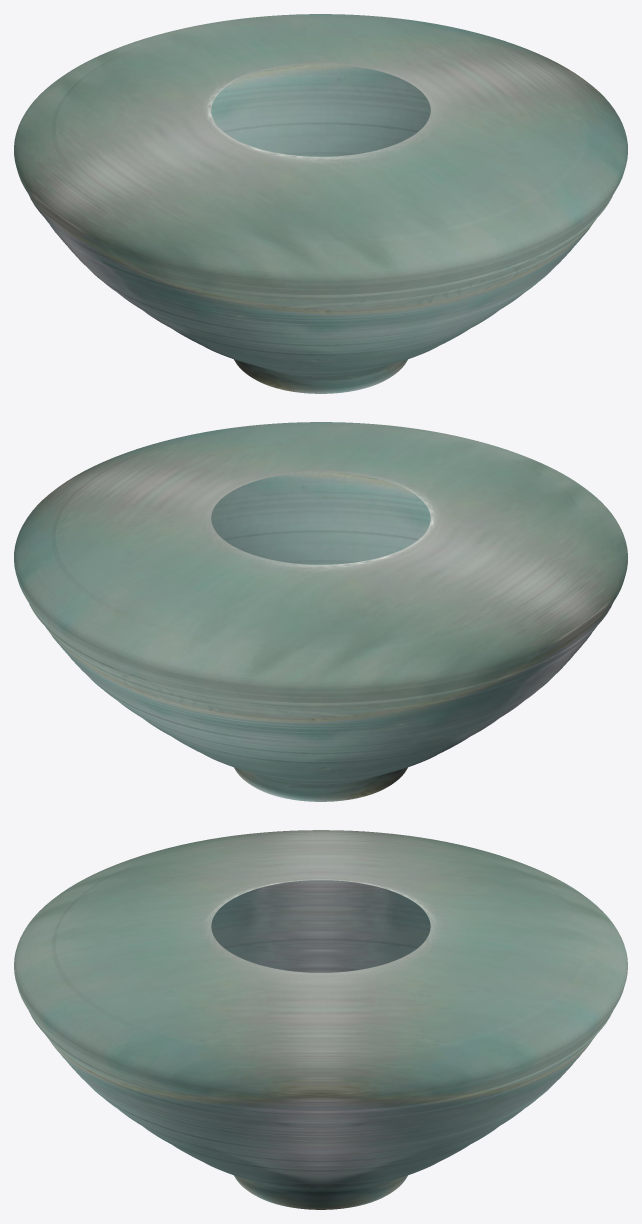
Rendered from cma-76527.glb.
3 views of the same model, one above another, from view 1: azimuth 30°, elevation 25°; view 2: azimuth 150°, elevation 25°; view 3: azimuth 270°, elevation 25° (orthographic).
Visible parts, largest first — view 1: geometry_0; view 2: geometry_0; view 3: geometry_0.
Part boxes in pixels (bbox=[...]): geometry_0: bbox=[14, 14, 627, 393]; geometry_0: bbox=[14, 422, 627, 801]; geometry_0: bbox=[14, 830, 627, 1209].
Size of the model in its own units: 64.85 by 30 by 64.85.
1 material, 1 textured.
